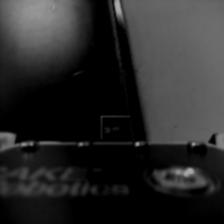Door Handle: (66, 62, 120, 98)
Lock: (103, 115, 128, 140)
